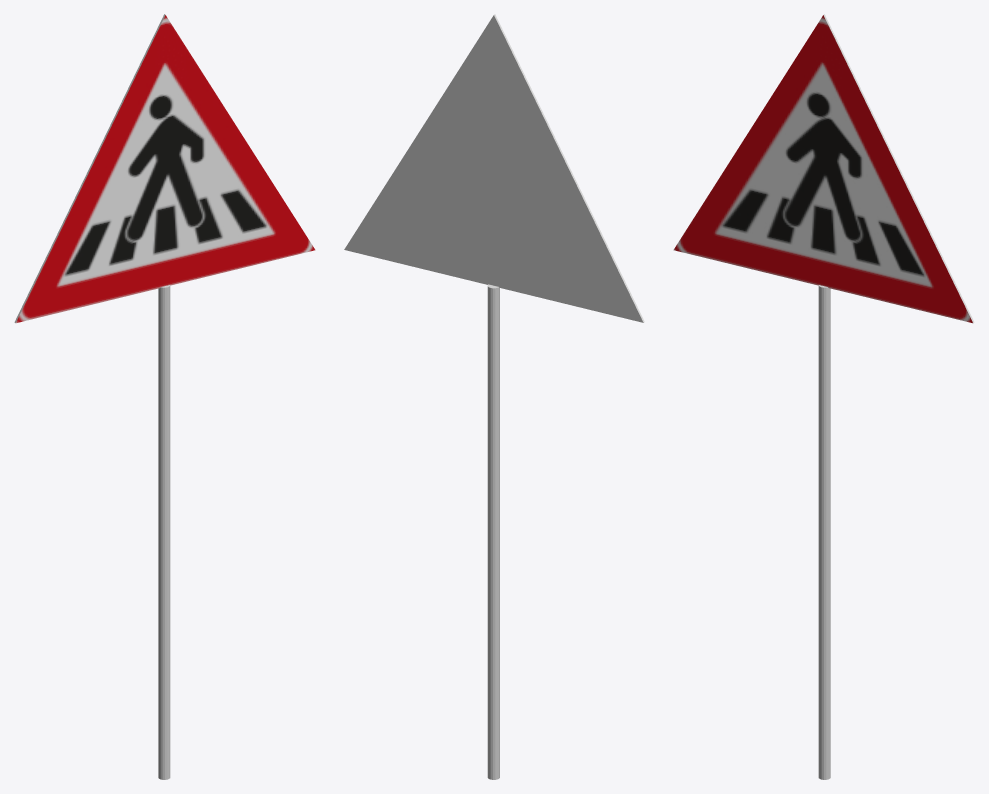
The model's file is yaya_gecidi.fbx.
3 renders of one model, left to right at view 1: azimuth 30°, elevation 25°; view 2: azimuth 150°, elevation 25°; view 3: azimuth 330°, elevation 25°, orthographic.
Parts seen in each view (by area): view 1: yaya_gecidi; view 2: yaya_gecidi; view 3: yaya_gecidi.
Part boxes in pixels (bbox=[...]): yaya_gecidi: bbox=[14, 14, 315, 779]; yaya_gecidi: bbox=[344, 14, 644, 779]; yaya_gecidi: bbox=[673, 14, 974, 779].
Size of the model in its own units: 140 by 341 by 5.
Materials: 2 (1 with a texture image).
